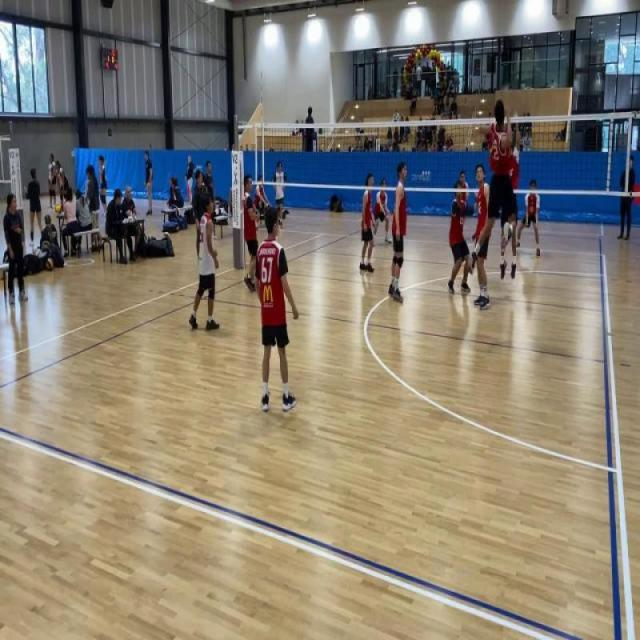volleyball: (46, 258, 54, 270), (55, 204, 62, 214), (163, 231, 170, 238), (148, 233, 152, 240)
